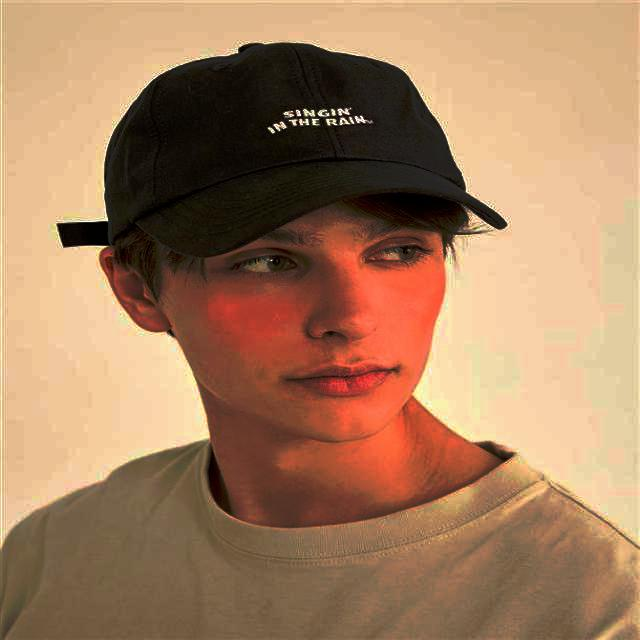TOPI: (58, 39, 510, 262)
